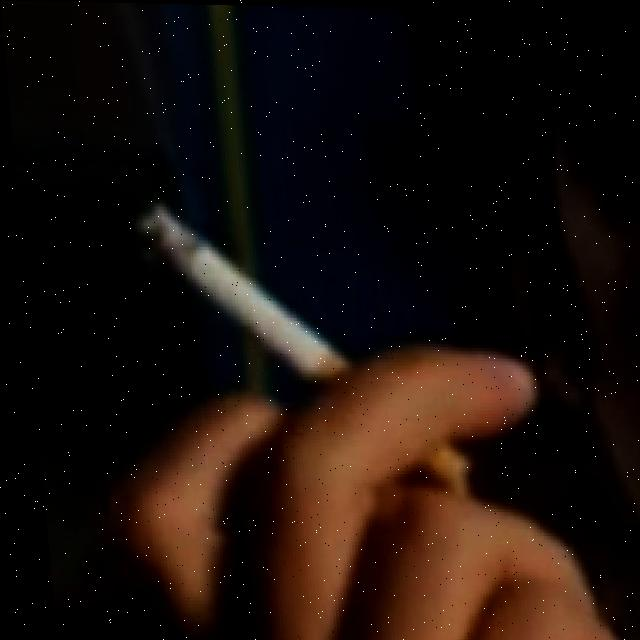cigarette: (133, 205, 461, 488)
